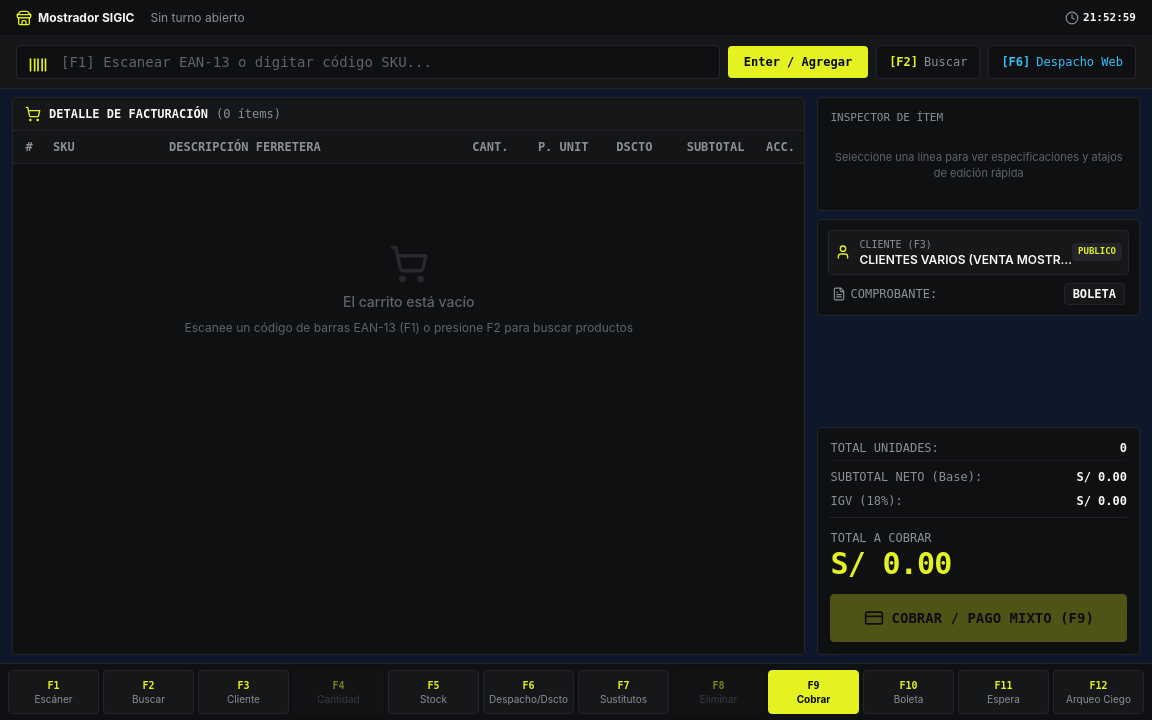
Scenario: Operaciones del Carrito de Ventas Mostrador (RF-POS-001, RF-POS-003, RF-POS-005) › aplica descuento porcentual de línea con F6
Type "7751234000103" into the field with placeholder "[F1] Escanear EAN-13 o digitar código SKU..." at [368, 62], box [16,45,720,79]
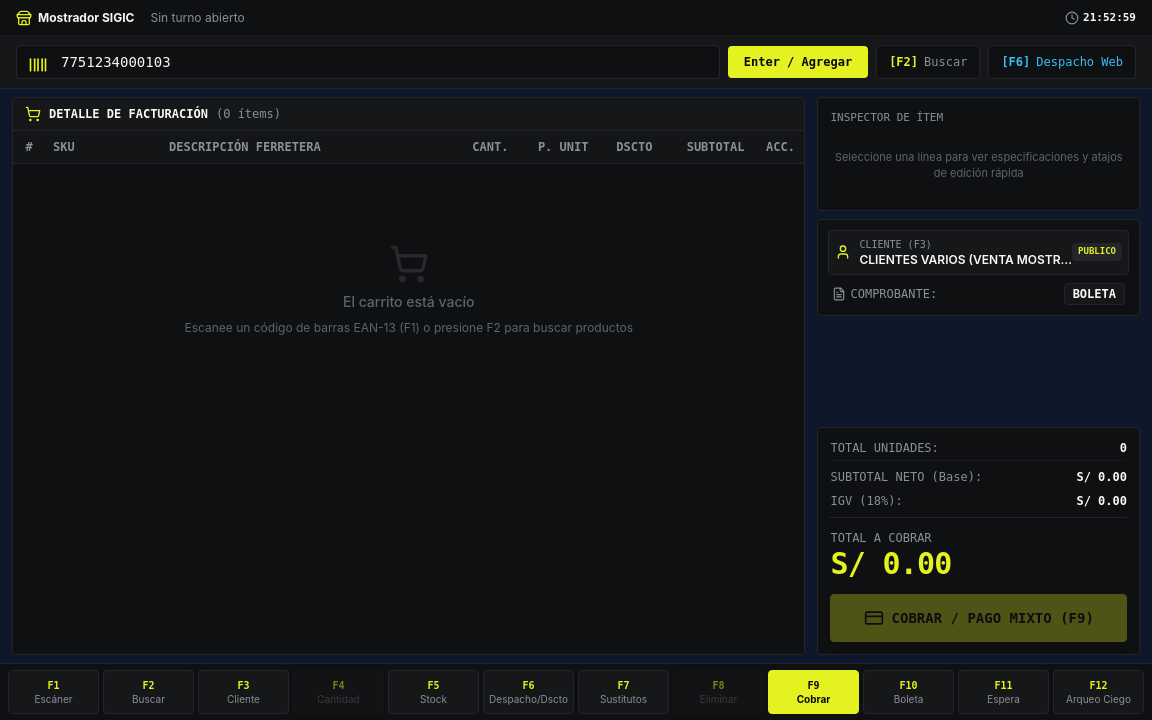
Submit the form with placeholder "Escanear EAN-13", box [16,45,868,79]
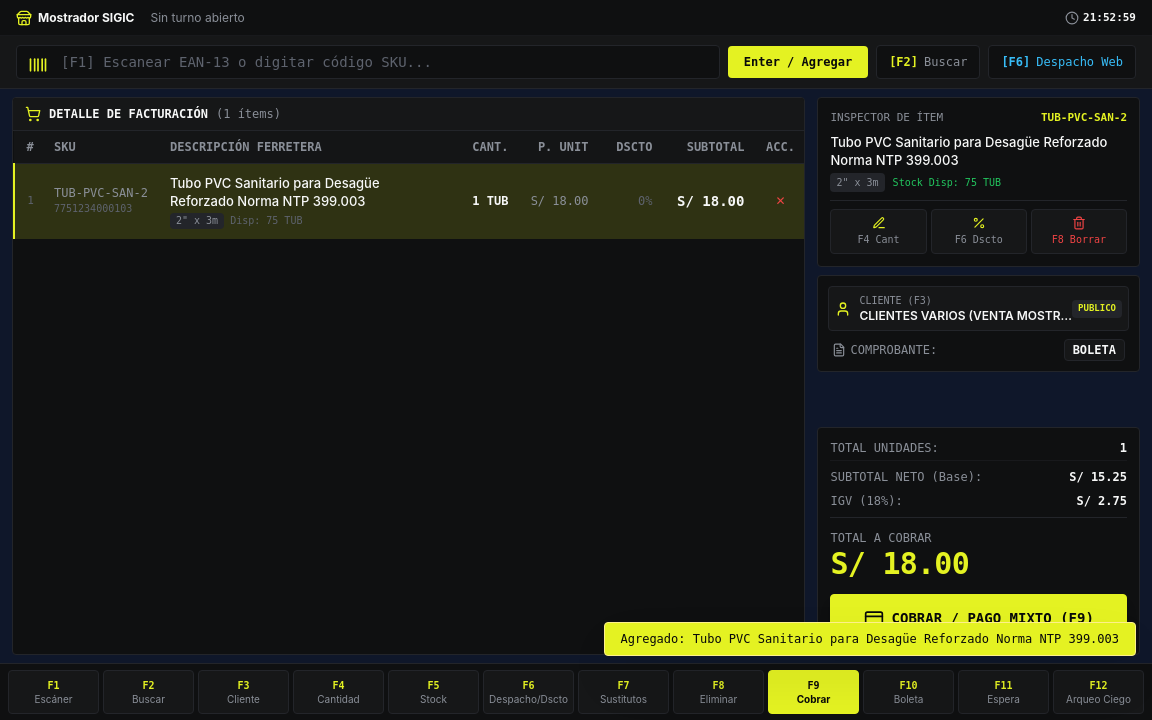
// F6 para abrir descuento
Press F6
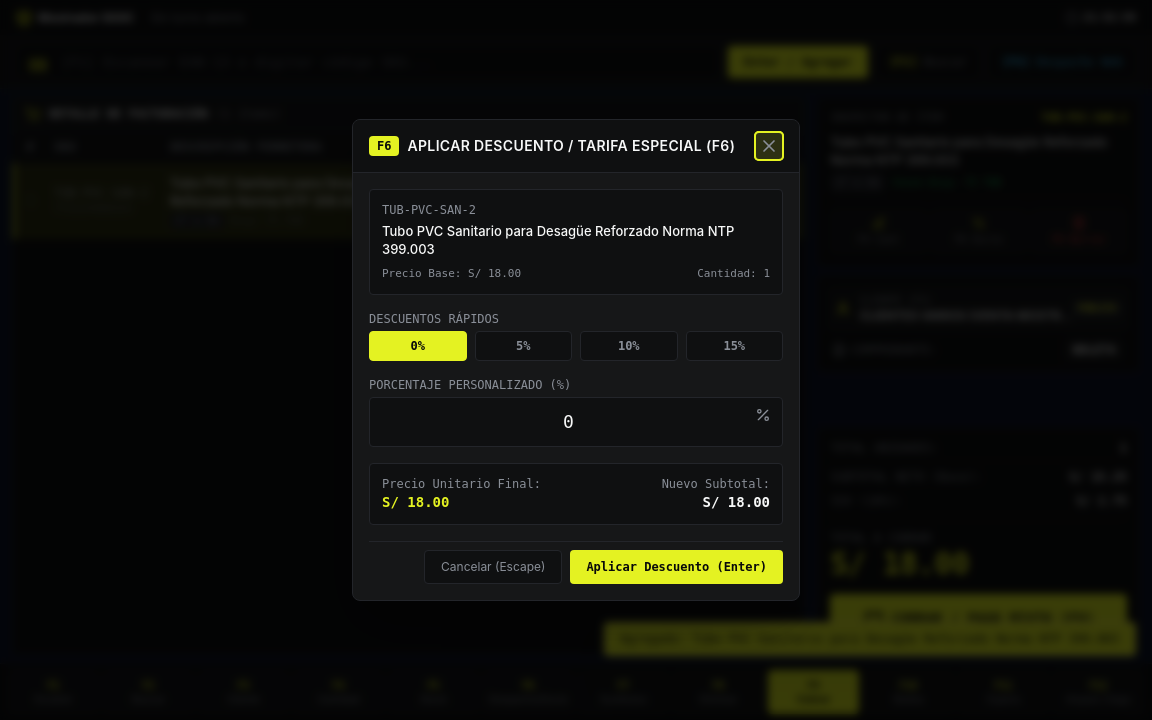
expect the heading "Aplicar Descuento / Tarifa Especial (F6)" is shown: met, box [408,136,735,156]
// Seleccionar botón preset 10%
Click the button "10%" at [629, 346], box [580,331,678,361]
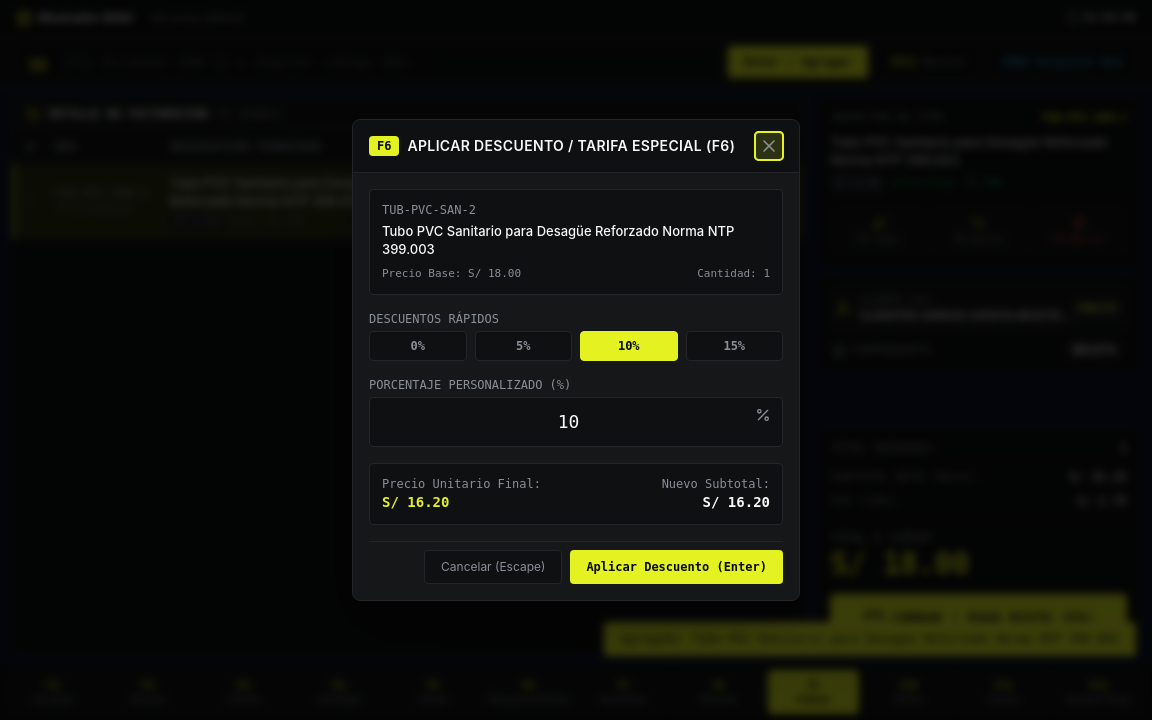
Click the button "Aplicar Descuento (Enter)" at [677, 567], box [570,550,783,584]
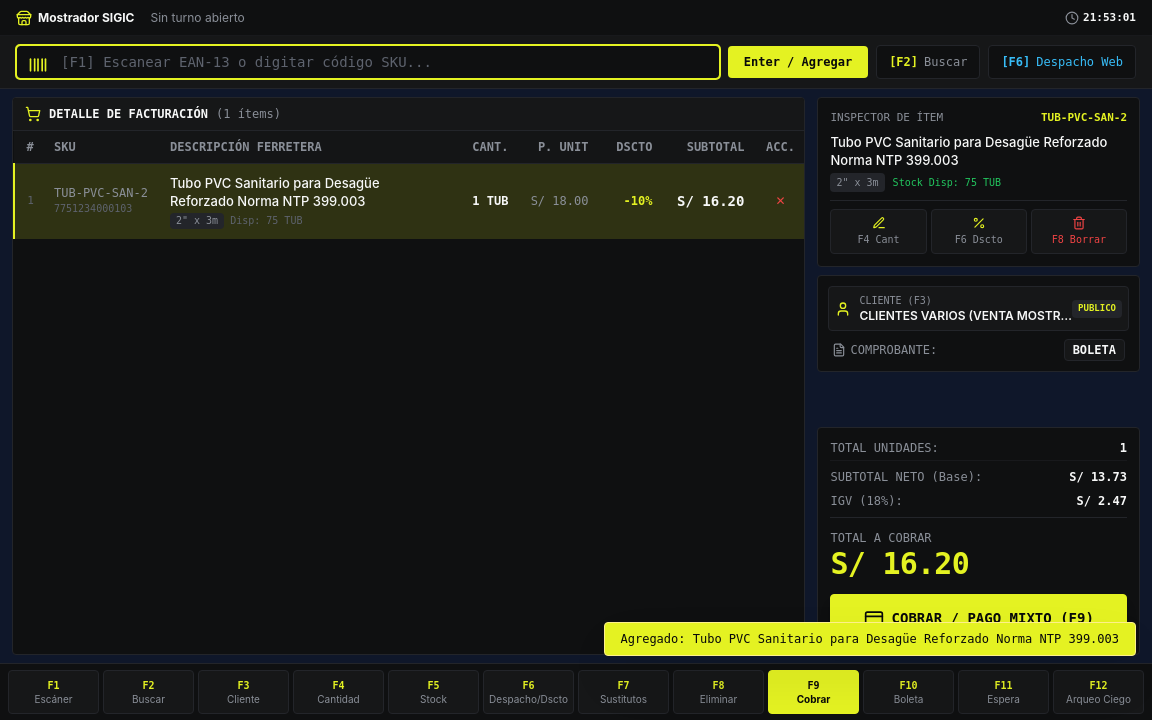
expect the text "S/ 16.20" is shown: met, box [660,164,756,239]
expect the text "-10%" is shown: met, box [624,194,652,208]
